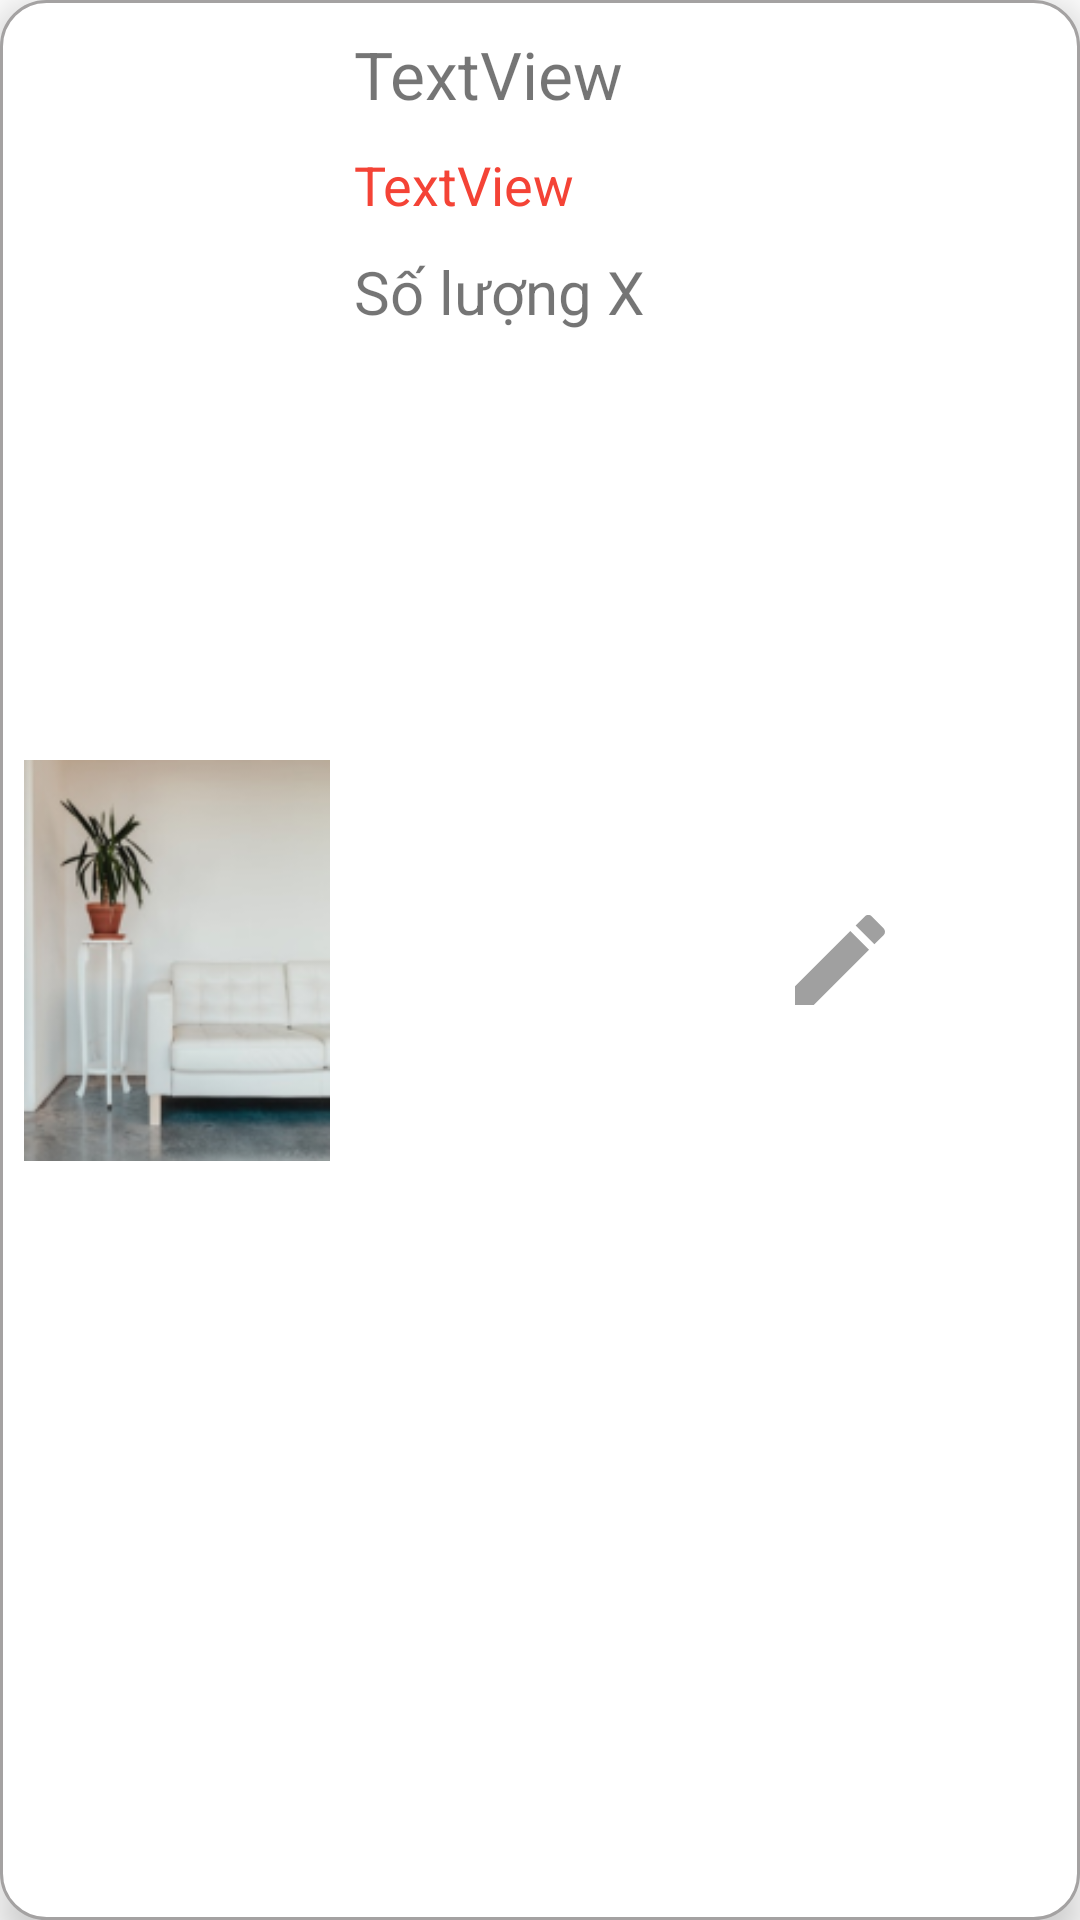

Where icons sit on this 1080 × 1920 app screen, as (x1, y1, x2, y2):
edit: (795, 915, 885, 1005)
